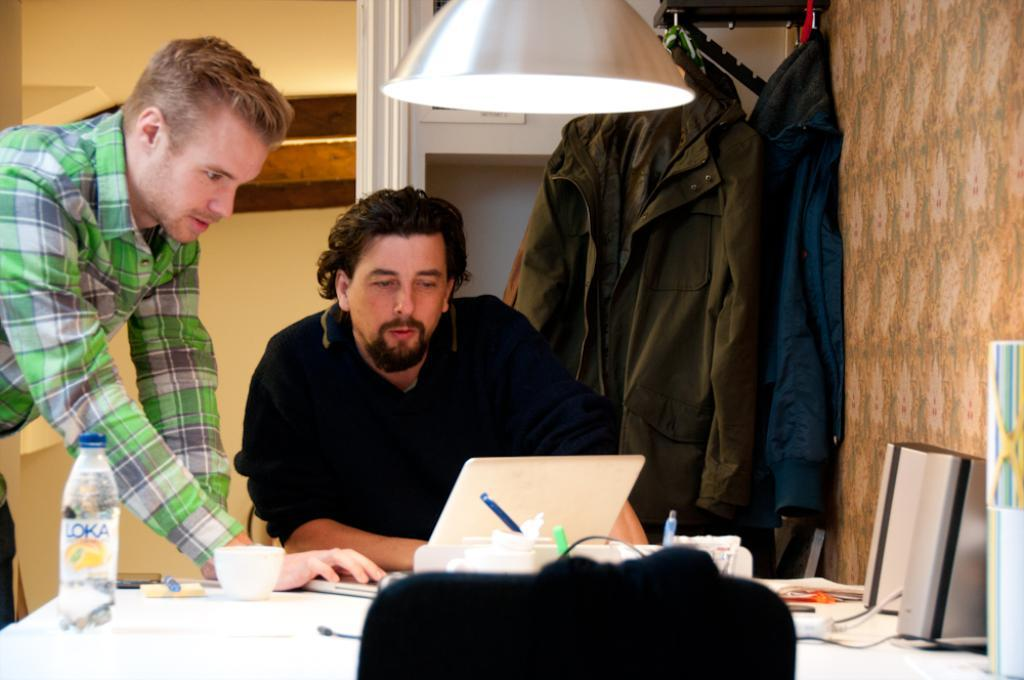Computer-monitor: (860, 439, 987, 650)
Laptop: (301, 452, 646, 599)
